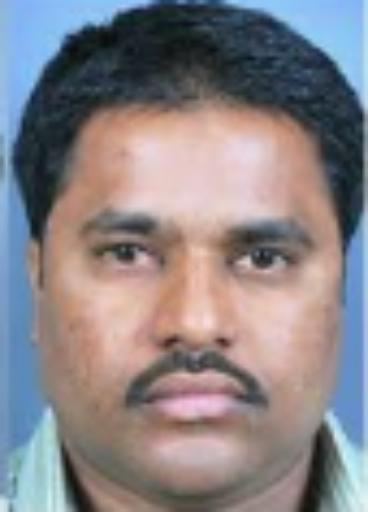left_eye: (227, 248, 304, 281)
left_lip_corner: (223, 382, 271, 418)
right_eye: (87, 240, 165, 276)
right_lip_corner: (128, 383, 168, 414)
